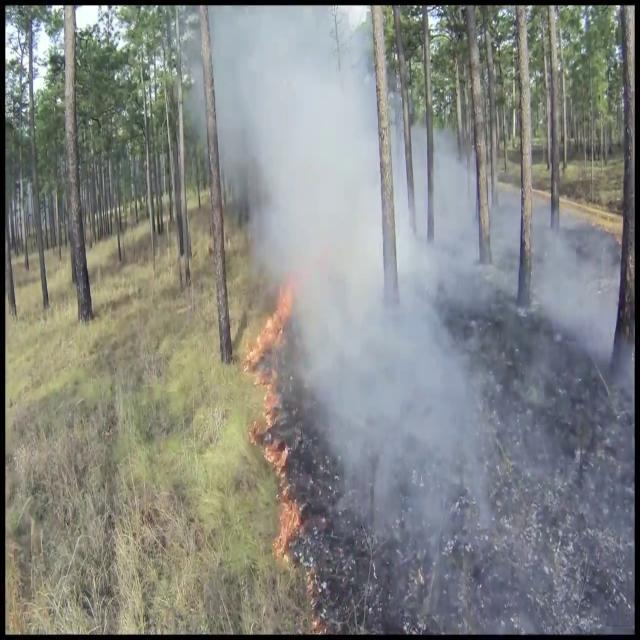Fire: (240, 302, 300, 552)
Smoke: (202, 11, 518, 622)
